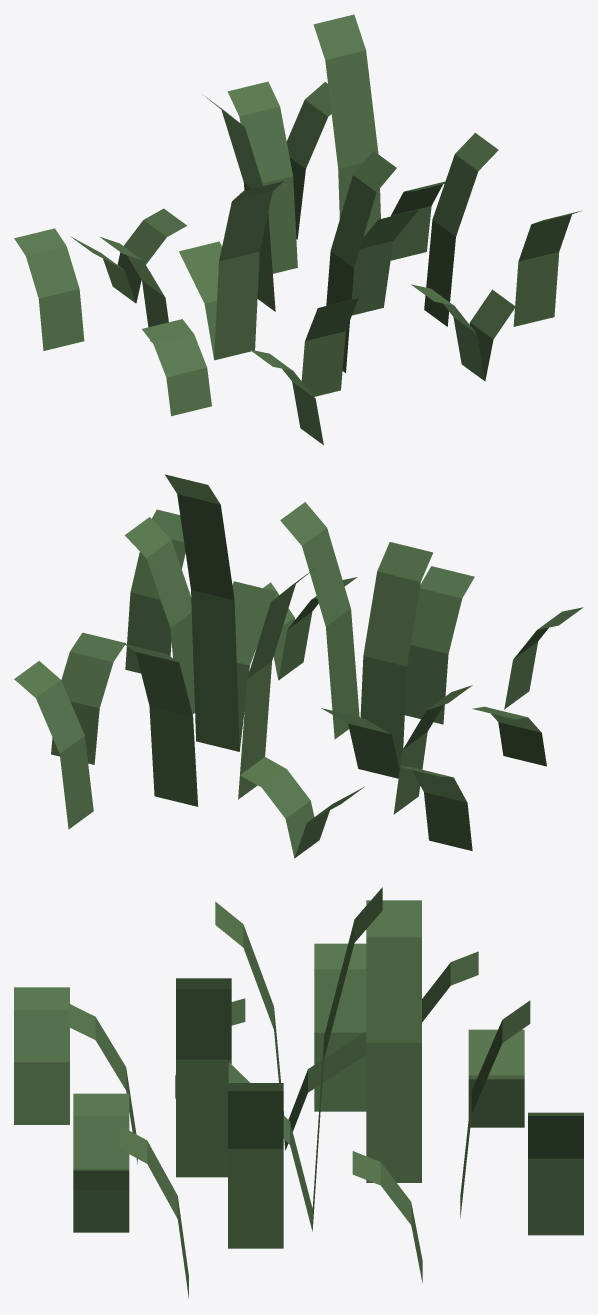
File: grass-tuft-safe.glb
3 views of the same model, one above another, from view 1: azimuth 30°, elevation 25°; view 2: azimuth 150°, elevation 25°; view 3: azimuth 270°, elevation 25° (orthographic). The views are drawn at different scales.
Parts seen in each view (by area): view 1: safe-mesh-0-grass_large; view 2: safe-mesh-0-grass_large; view 3: safe-mesh-0-grass_large.
Boxes of the visible parts, <box> form: safe-mesh-0-grass_large: <box>14,14,582,445</box>; safe-mesh-0-grass_large: <box>14,474,583,858</box>; safe-mesh-0-grass_large: <box>14,887,583,1298</box>.
Bounding box in the file's own units: 0.409 × 0.254 × 0.4079.
